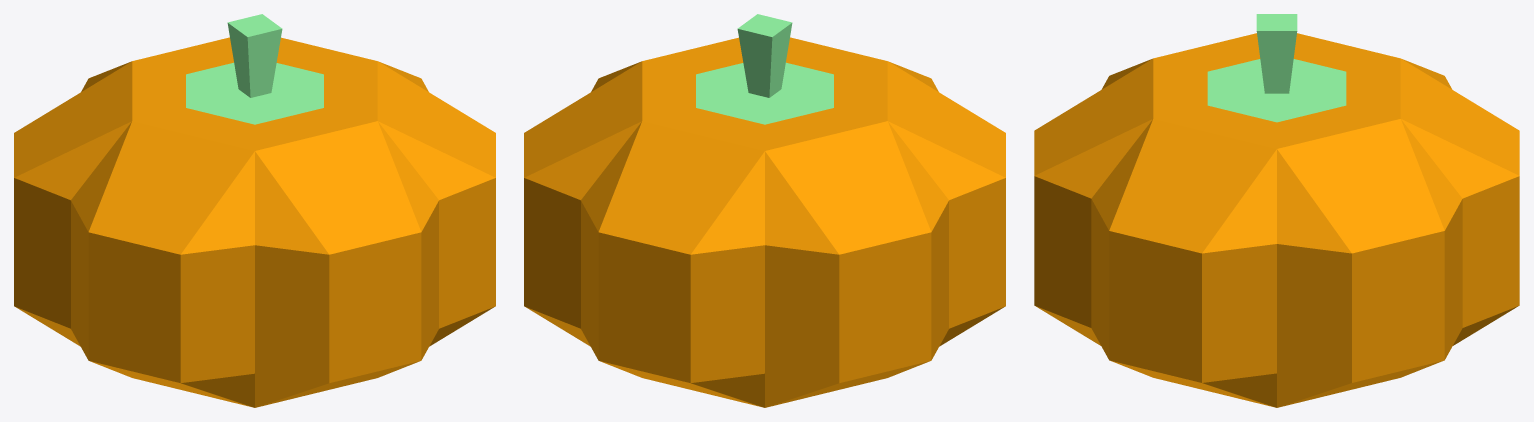
File: 15_pumpkin.fbx
3 views of the same model, side by side, from view 1: azimuth 30°, elevation 25°; view 2: azimuth 150°, elevation 25°; view 3: azimuth 270°, elevation 25° (orthographic).
Visible parts, largest first — view 1: crop_pumpkin; view 2: crop_pumpkin; view 3: crop_pumpkin.
Boxes of the visible parts, left/top/right/bottom form: crop_pumpkin: left=14, top=14, right=495, bottom=407; crop_pumpkin: left=524, top=14, right=1005, bottom=407; crop_pumpkin: left=1034, top=14, right=1519, bottom=407.
Size of the model in its own units: 44.13 by 33.38 by 45.19.
